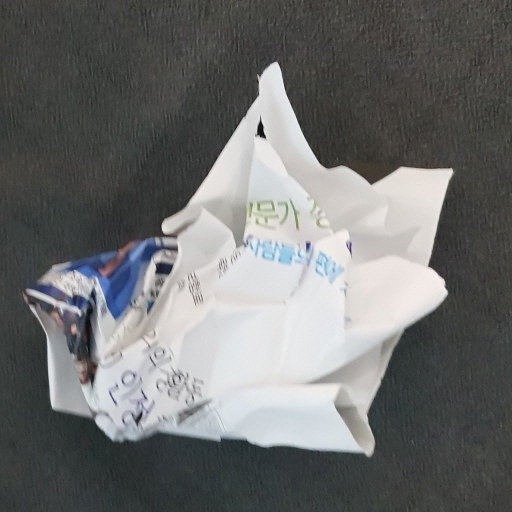Paper_3: (22, 60, 472, 476)
